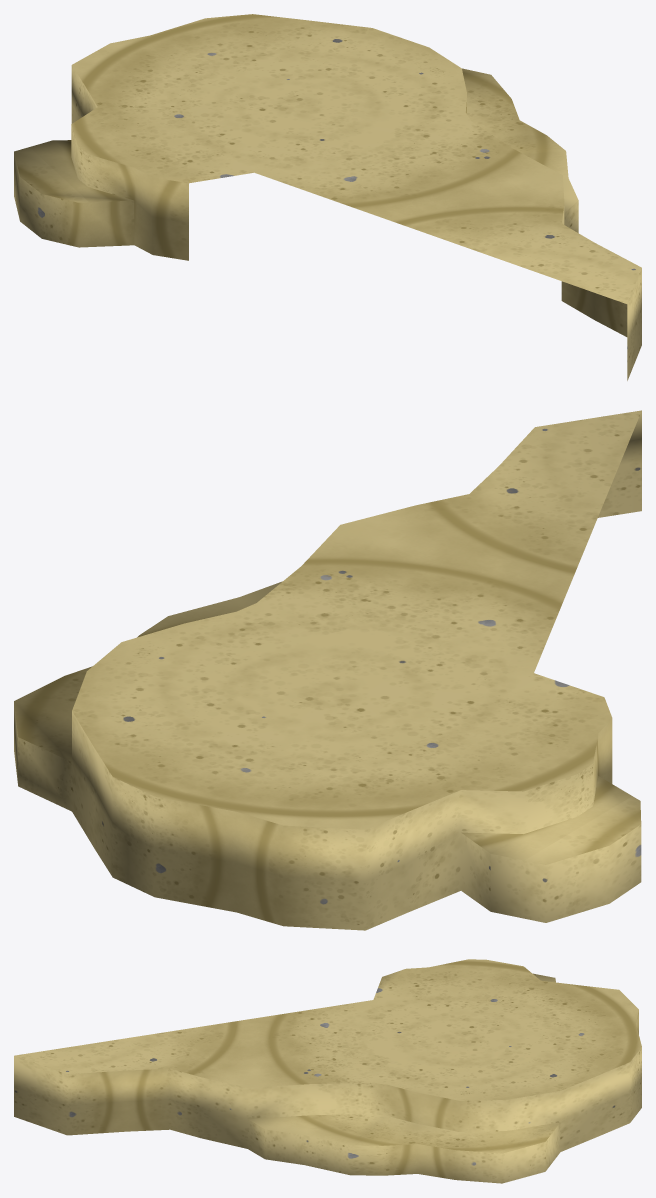
Rendered from helpget up colision.fbx.
3 views of the same model, one above another, from view 1: azimuth 30°, elevation 25°; view 2: azimuth 150°, elevation 25°; view 3: azimuth 270°, elevation 25° (orthographic). The views are drawn at different scales.
Visible parts, largest first — view 1: pCube62; view 2: pCube62; view 3: pCube62.
Boxes of the visible parts, <box> form: pCube62: <box>14,14,641,380</box>; pCube62: <box>14,410,641,930</box>; pCube62: <box>14,959,641,1183</box>.
Bounding box in the file's own units: 0.3708 × 0.0589 × 0.549.
